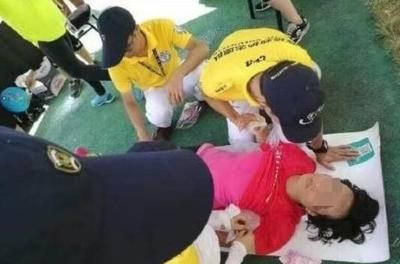falling: (139, 127, 384, 254)
